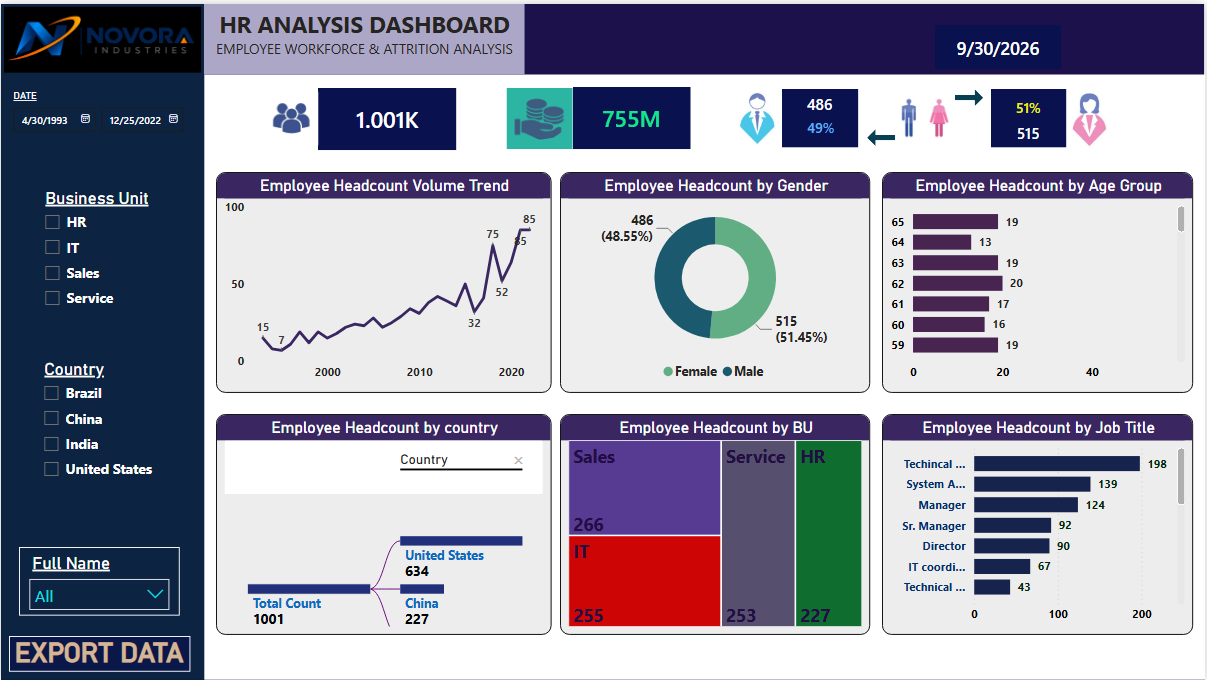

This screenshot's page, from the dashboard's own definition file:
{"tool":"powerbi","page":{"name":"HR ANALYSIS","canvas":[1280,720],"ordinal":1},"visuals":[{"type":"shape","box":[216.4,0,1063.6,75.5],"z":0},{"type":"textbox","box":[216.1,0,341.4,74.7],"z":1000},{"type":"textbox","title":"HR Analytics","box":[31.3,6.9,173.3,31],"z":2000,"group":"g2"},{"type":"lineChart","title":"Employee Headcount Volume Trend","fields":{"Category":["Employee Data.Hire Date.Variation.Date Hierarchy.Year"],"Y":["CountNonNull(Employee Data.Employee ID)"]},"box":[228.3,178.8,356.6,235.4],"z":2000},{"type":"image","box":[3.4,6.9,55.7,31],"z":3000,"group":"g2"},{"type":"donutChart","title":"Employee Headcount by Gender","fields":{"Category":["Employee Data.Gender"],"Y":["CountNonNull(Employee Data.Employee ID)"]},"box":[594.9,178.8,330.3,235.4],"z":3000},{"type":"clusteredBarChart","title":"Employee Headcount by Age Group","fields":{"Category":["Employee Data.Age"],"Y":["CountNonNull(Employee Data.Employee ID)"]},"box":[937.4,178.8,331.3,235.4],"z":4000},{"type":"decompositionTreeVisual","title":"Employee Headcount by country","fields":{"Analyze":["CountNonNull(Employee Data.Country)"],"ExplainBy":["Employee Data.Country"]},"box":[228.3,436.4,356.6,235.4],"z":5000},{"type":"treemap","title":"Employee Headcount by BU","fields":{"Group":["Employee Data.Business Unit"],"Values":["CountNonNull(Employee Data.Employee ID)"]},"box":[594.9,436.4,330.3,235.4],"z":6000},{"type":"clusteredBarChart","title":"Employee Headcount by Job Title","fields":{"Category":["Employee Data.Job Title"],"Y":["CountNonNull(Employee Data.Employee ID)"]},"box":[937.4,436.4,331.3,235.4],"z":7000},{"type":"slicer","fields":{"Values":["Employee Data.Business Unit"]},"box":[34.3,189.9,149.5,152.5],"z":8000},{"type":"group","id":"g1","title":"Group 2","box":[831.3,87.9,303,64.6],"z":9000,"group":"g3"},{"type":"slicer","fields":{"Values":["Employee Data.Country"]},"box":[33.3,372.7,149.5,152.5],"z":9000},{"type":"slicer","fields":{"Values":["Employee Data.Full Name"]},"box":[19.2,577.8,170.7,72.7],"z":10000},{"type":"slicer","fields":{"Values":["Employee Data.Hire Date"]},"box":[0,86.2,218.4,66.7],"z":11000},{"type":"cardVisual","fields":{"Data":["Sum(Employee Data.Annual Salary)"]},"box":[608.5,87.9,124.8,65.7],"z":11000,"group":"g6"},{"type":"cardVisual","fields":{"Data":["Employee Data.Total_count"]},"box":[337.4,88.9,147.5,65.7],"z":11000,"group":"g4"},{"type":"cardVisual","fields":{"Data":["Employee Data.Total_female_Count"]},"box":[1053.9,90.3,79.8,62.3],"z":11000,"group":"g1"},{"type":"cardVisual","fields":{"Data":["Min(Query1.Date)"]},"box":[993.9,22.2,134.3,47.5],"z":12000},{"type":"cardVisual","fields":{"Data":["Employee Data.Female %"]},"box":[1070.7,87.9,45.2,41.6],"z":12000,"group":"g1"},{"type":"group","id":"g2","title":"Group 3","box":[3.4,6.9,201.1,31],"z":13000},{"type":"cardVisual","fields":{"Data":["Employee Data.Total_Male_Count"]},"box":[831.3,90.3,80.7,62.3],"z":14000,"group":"g1"},{"type":"tableEx","title":"EXPORT DATA","fields":{"Values":["Employee Data.Gender","Employee Data.Full Name","Employee Data.Female %"]},"box":[8,672.4,192.9,38.4],"z":14000},{"type":"group","id":"g3","title":"Group 4","box":[778.8,87.9,405.1,64.6],"z":15000},{"type":"image","box":[951.9,97.3,30,45.1],"z":15000,"group":"g1"},{"type":"group","id":"g4","title":"Group 1","box":[279.8,87.9,205.1,66.7],"z":16000},{"type":"image","box":[982.9,97.5,30,45.1],"z":16000,"group":"g1"},{"type":"group","id":"g5","title":"Group 5","box":[534.3,87.9,199,65.7],"z":17000},{"type":"shape","box":[921.7,132.7,30.1,18.4],"z":17000,"group":"g1"},{"type":"shape","box":[1015.7,90.3,30.1,18.4],"z":18000,"group":"g1"},{"type":"image","box":[1132.3,89.7,51.5,61.9],"z":19000,"group":"g3"},{"type":"image","box":[778.8,89.7,51.5,61.9],"z":20000,"group":"g3"},{"type":"image","box":[279.8,87.9,57.6,66.7],"z":21000,"group":"g4"},{"type":"cardVisual","fields":{"Data":["Employee Data.Male %"]},"box":[849,108.9,47,42.4],"z":21001,"group":"g1"},{"type":"image","box":[534.3,88.7,78.3,64.7],"z":21003,"group":"g6"},{"type":"group","id":"g6","title":"Group 6","box":[534.3,87.9,199,65.7],"z":21005,"group":"g5"}]}

Visuals, with their boxes in screenshot pixels (x1, y1, x2, y2), scaled from the page's 1280x720 canvas onto the 1207x680 screenshot:
shape: left=204, top=0, right=1206, bottom=71
textbox: left=204, top=0, right=526, bottom=71
"HR Analytics" textbox: left=30, top=7, right=193, bottom=36
"Employee Headcount Volume Trend" lineChart: left=215, top=169, right=552, bottom=391
image: left=3, top=7, right=56, bottom=36
"Employee Headcount by Gender" donutChart: left=561, top=169, right=872, bottom=391
"Employee Headcount by Age Group" clusteredBarChart: left=884, top=169, right=1196, bottom=391
"Employee Headcount by country" decompositionTreeVisual: left=215, top=412, right=552, bottom=634
"Employee Headcount by BU" treemap: left=561, top=412, right=872, bottom=634
"Employee Headcount by Job Title" clusteredBarChart: left=884, top=412, right=1196, bottom=634
slicer - Employee Data.Business Unit: left=32, top=179, right=173, bottom=323
"Group 2" group: left=784, top=83, right=1070, bottom=144
slicer - Employee Data.Country: left=31, top=352, right=172, bottom=496
slicer - Employee Data.Full Name: left=18, top=546, right=179, bottom=614
slicer - Employee Data.Hire Date: left=0, top=81, right=206, bottom=144
cardVisual - Sum(Employee Data.Annual Salary): left=574, top=83, right=691, bottom=145
cardVisual - Employee Data.Total_count: left=318, top=84, right=457, bottom=146
cardVisual - Employee Data.Total_female_Count: left=994, top=85, right=1069, bottom=144
cardVisual - Min(Query1.Date): left=937, top=21, right=1064, bottom=66
cardVisual - Employee Data.Female %: left=1010, top=83, right=1052, bottom=122
"Group 3" group: left=3, top=7, right=193, bottom=36
cardVisual - Employee Data.Total_Male_Count: left=784, top=85, right=860, bottom=144
"EXPORT DATA" tableEx: left=8, top=635, right=189, bottom=671
"Group 4" group: left=734, top=83, right=1116, bottom=144
image: left=898, top=92, right=926, bottom=134
"Group 1" group: left=264, top=83, right=457, bottom=146
image: left=927, top=92, right=955, bottom=135
"Group 5" group: left=504, top=83, right=691, bottom=145
shape: left=869, top=125, right=898, bottom=143
shape: left=958, top=85, right=986, bottom=103
image: left=1068, top=85, right=1116, bottom=143
image: left=734, top=85, right=783, bottom=143
image: left=264, top=83, right=318, bottom=146
cardVisual - Employee Data.Male %: left=801, top=103, right=845, bottom=143
image: left=504, top=84, right=578, bottom=145
"Group 6" group: left=504, top=83, right=691, bottom=145
